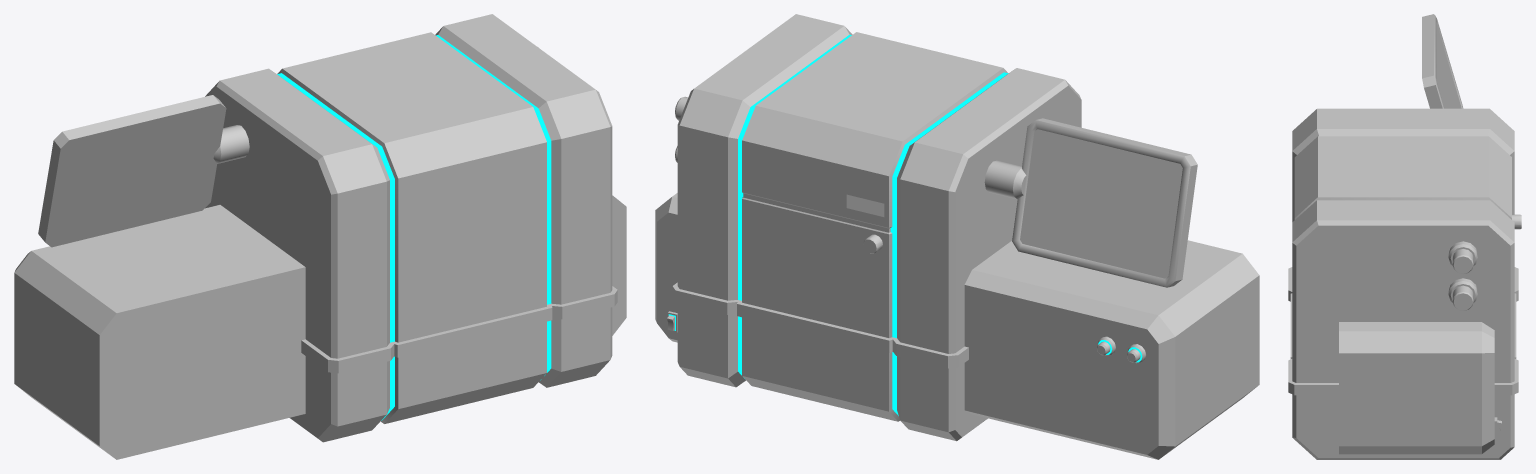
The model's file is NGS_placeholder.fbx.
The picture shows the model from 3 angles, left to right: view 1: azimuth 30°, elevation 25°; view 2: azimuth 150°, elevation 25°; view 3: azimuth 270°, elevation 25°; orthographic projection. The views are drawn at different scales.
Parts seen in each view (by area): view 1: Mesh; view 2: Mesh; view 3: Mesh.
Boxes of the visible parts, bbox=[...] form: Mesh: bbox=[14, 14, 626, 459]; Mesh: bbox=[655, 14, 1259, 459]; Mesh: bbox=[1288, 14, 1521, 459].
Bounding box in the file's own units: 124 × 68.9 × 56.87.
